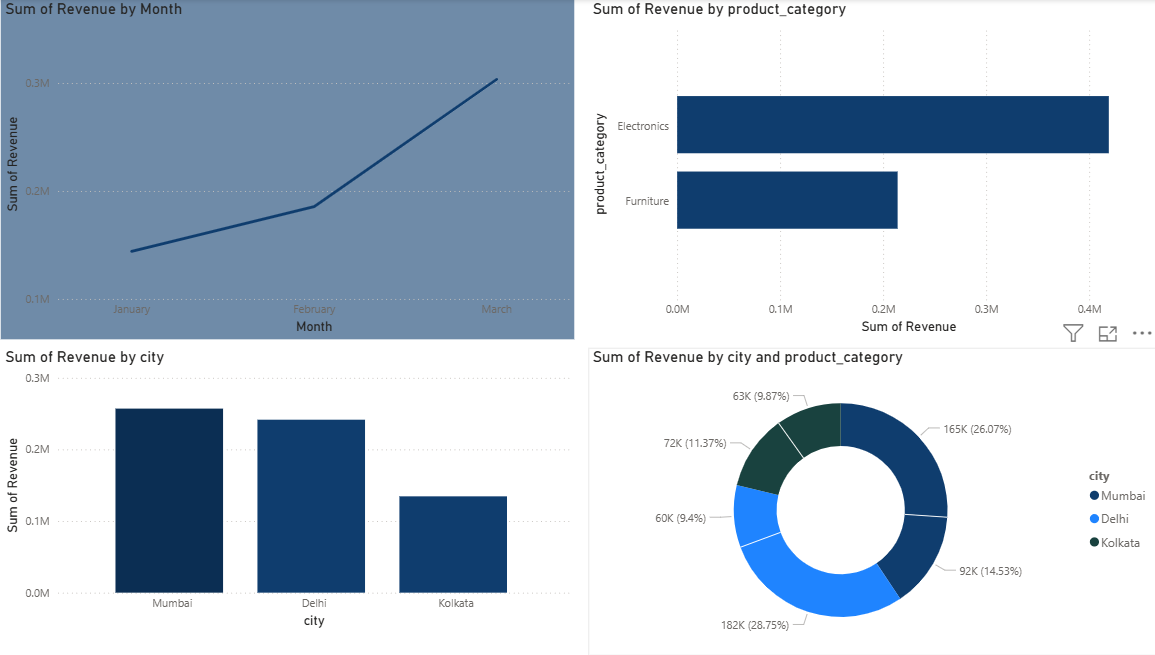

The dashboard page shown, as its layout file describes it:
{"tool":"powerbi","page":{"name":"Page 1","canvas":[1280,720],"ordinal":0},"visuals":[{"type":"lineChart","fields":{"Category":["sales_data.order_date.Variation.Date Hierarchy.Month"],"Y":["Sum(sales_data.Revenue)"]},"box":[9.6,0,629.8,373.2],"z":0},{"type":"clusteredColumnChart","fields":{"Category":["sales_data.city"],"Y":["Sum(sales_data.Revenue)"]},"box":[9.6,382.8,629.8,312.9],"z":1},{"type":"barChart","fields":{"Category":["sales_data.product_category"],"Y":["Sum(sales_data.Revenue)"]},"box":[654.5,0,625.7,373.2],"z":2},{"type":"donutChart","fields":{"Category":["sales_data.city"],"Series":["sales_data.product_category"],"Y":["Sum(sales_data.Revenue)"]},"box":[654.5,382.8,625.7,337.6],"z":3}]}

Visuals, with their boxes in screenshot pixels (x1, y1, x2, y2), scaled from the page's 1280x720 canvas onto the 1155x655 screenshot:
lineChart - sales_data.order_date.Variation.Date Hierarchy.Month x Sum(sales_data.Revenue): {"x1": 9, "y1": 0, "x2": 577, "y2": 340}
clusteredColumnChart - sales_data.city x Sum(sales_data.Revenue): {"x1": 9, "y1": 348, "x2": 577, "y2": 633}
barChart - sales_data.product_category x Sum(sales_data.Revenue): {"x1": 591, "y1": 0, "x2": 1154, "y2": 340}
donutChart - sales_data.city x sales_data.product_category: {"x1": 591, "y1": 348, "x2": 1154, "y2": 654}
